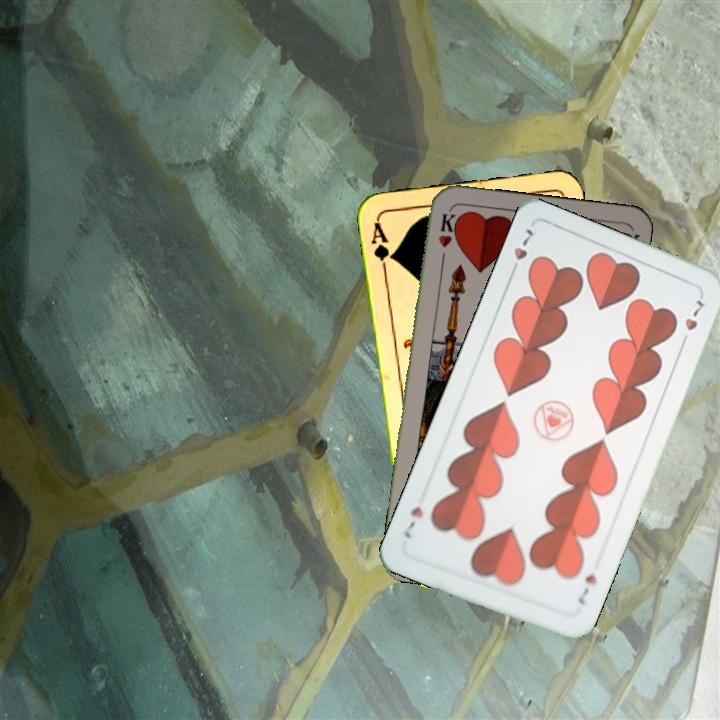GA: (367, 217, 396, 276)
H7: (506, 225, 537, 279), (573, 570, 600, 608)
HK: (434, 209, 458, 268)
